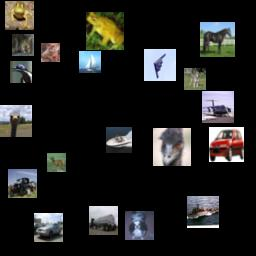airplane: (202, 91, 234, 123), (144, 49, 176, 81)
automobile: (209, 127, 244, 162), (34, 213, 63, 242), (8, 169, 37, 198)
bird: (153, 128, 191, 166), (0, 105, 32, 137), (10, 61, 32, 83)
cat: (12, 34, 34, 56), (41, 43, 60, 62)
deer: (47, 153, 66, 172)
dog: (125, 211, 154, 240), (184, 68, 206, 90)
frog: (86, 12, 124, 50), (5, 1, 34, 30)
ship: (187, 196, 219, 228), (106, 127, 132, 153), (79, 51, 101, 73)
truck: (89, 206, 118, 235)
